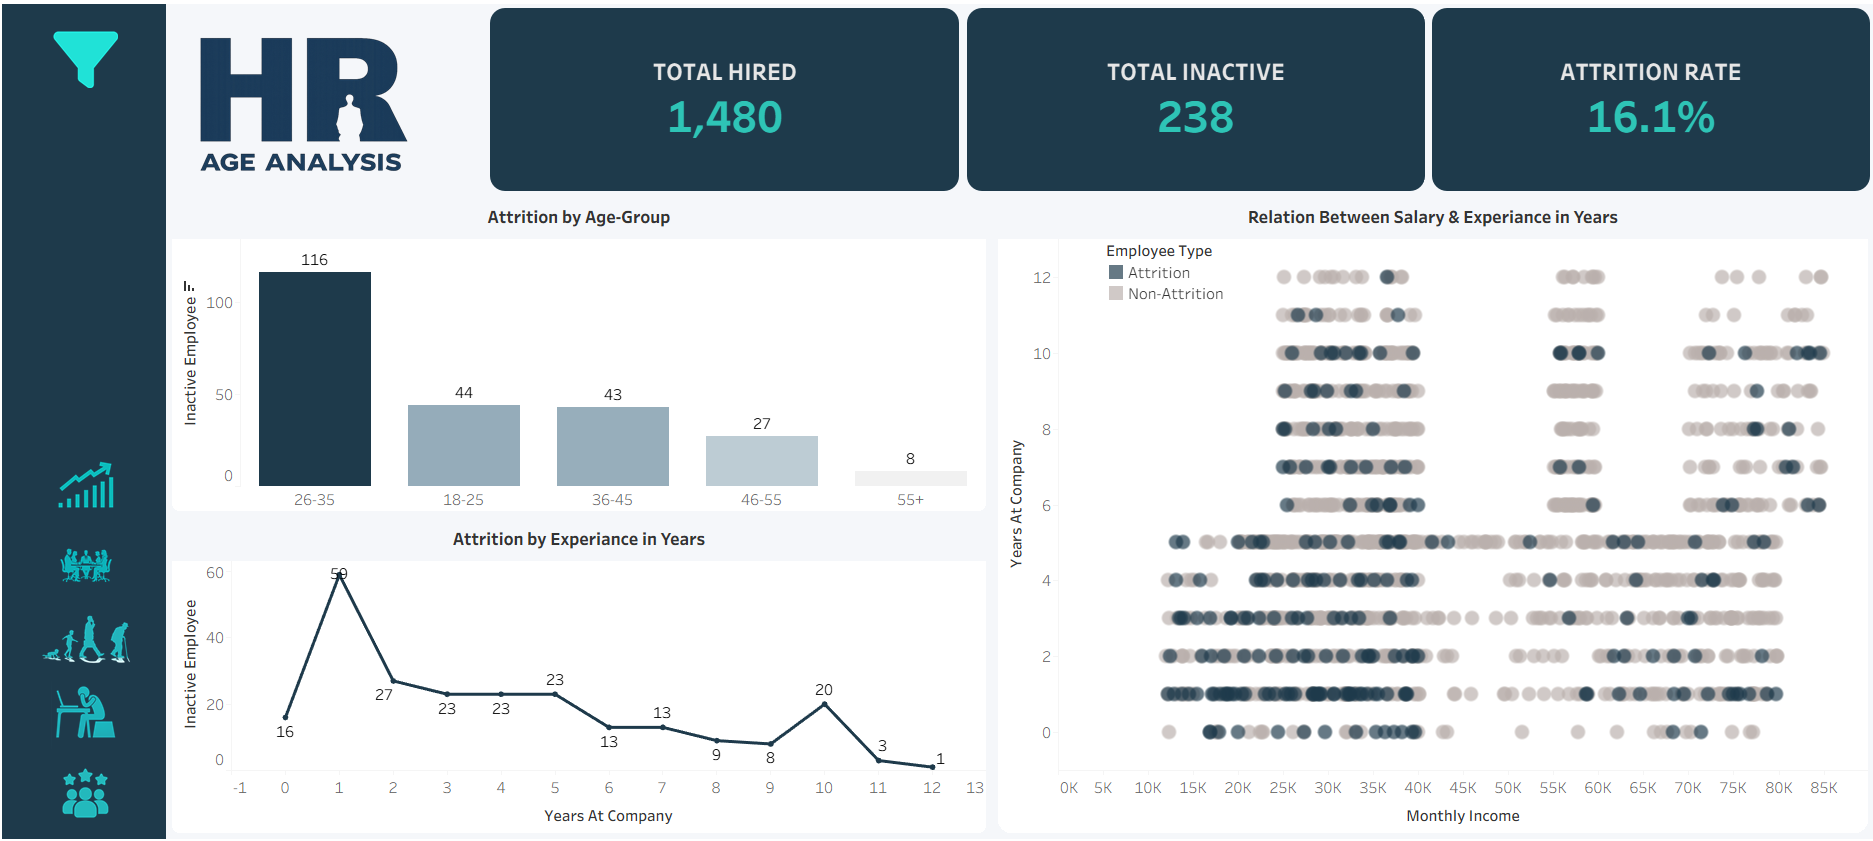

The page's visual inventory and layout, read from the dashboard file:
{"tool":"tableau","page":{"name":"Age-Analysis","canvas":[1000,1000],"units":"permille","ordinal":0},"visuals":[{"type":"image","param":"Image/Age Analysis Logo-1.png","box":[91.7,9.4,169,224.4]},{"type":"worksheet","title":"Hired","mark":"Automatic","box":[260.7,9.4,252.3,224.4]},{"type":"worksheet","title":"Inactive","mark":"Automatic","box":[513,9.4,246.5,224.4]},{"type":"worksheet","title":"KPI-Attrition Rate","mark":"Automatic","box":[759.5,9.4,235.7,224.4]},{"type":"dashboard-object","box":[25.4,41.1,45.9,67]},{"type":"filter","title":"Salary & Tenure","param":"[federated.1of4pu71v0n0iw0zwbxfw1q17xni].[none:AgeGroup:nk]","box":[4.8,116.3,85.1,204.5]},{"type":"worksheet","title":"Attrition Count","mark":"Bar","rows":["Calculation_0379333597069316"],"cols":["AgeGroup"],"box":[91.7,233.8,436.9,378.4]},{"type":"worksheet","title":"Salary & Tenure","mark":"Circle","rows":["YearsAtCompany"],"cols":["MonthlyIncome"],"box":[528.7,233.8,466.5,756.8]},{"type":"legend","title":"Salary & Tenure","param":"[federated.1of4pu71v0n0iw0zwbxfw1q17xni].[none:Calculation_0387854971691013:nk]","box":[589,286.7,84.5,75.2]},{"type":"filter","title":"Salary & Tenure","param":"[federated.1of4pu71v0n0iw0zwbxfw1q17xni].[none:Calculation_0387854971691013:nk]","box":[4.8,320.8,85.1,123.4]},{"type":"dashboard-object","box":[12.7,530,71.2,90.5]},{"type":"worksheet","title":"Attrition by Years","mark":"Automatic","rows":["Calculation_0379333597069316"],"cols":["YearsAtCompany"],"box":[91.7,612.2,436.9,378.4]},{"type":"dashboard-object","box":[12.7,620.5,71.2,90.5]},{"type":"dashboard-object","box":[12.7,710.9,71.2,89.3]},{"type":"dashboard-object","box":[12.7,800.2,71.2,89.3]},{"type":"dashboard-object","box":[12.7,889.5,71.2,89.3]}]}

Visuals, with their boxes on the dashboard's canvas, which has no fixed pixel size, in thousandths of its width and height (x1, y1, x2, y2). These are canvas units, not pixel positions in the 1873x841 screenshot, which may show the page scaled, cropped or inside an application window:
image: pyautogui.locateOnScreen(92, 9, 261, 234)
"Hired" worksheet: pyautogui.locateOnScreen(261, 9, 513, 234)
"Inactive" worksheet: pyautogui.locateOnScreen(513, 9, 760, 234)
"KPI-Attrition Rate" worksheet: pyautogui.locateOnScreen(760, 9, 995, 234)
dashboard-object: pyautogui.locateOnScreen(25, 41, 71, 108)
"Salary & Tenure" filter: pyautogui.locateOnScreen(5, 116, 90, 321)
"Attrition Count" worksheet (Bar marks): pyautogui.locateOnScreen(92, 234, 529, 612)
"Salary & Tenure" worksheet (Circle marks): pyautogui.locateOnScreen(529, 234, 995, 991)
"Salary & Tenure" legend: pyautogui.locateOnScreen(589, 287, 674, 362)
"Salary & Tenure" filter: pyautogui.locateOnScreen(5, 321, 90, 444)
dashboard-object: pyautogui.locateOnScreen(13, 530, 84, 620)
"Attrition by Years" worksheet: pyautogui.locateOnScreen(92, 612, 529, 991)
dashboard-object: pyautogui.locateOnScreen(13, 620, 84, 711)
dashboard-object: pyautogui.locateOnScreen(13, 711, 84, 800)
dashboard-object: pyautogui.locateOnScreen(13, 800, 84, 890)
dashboard-object: pyautogui.locateOnScreen(13, 890, 84, 979)
